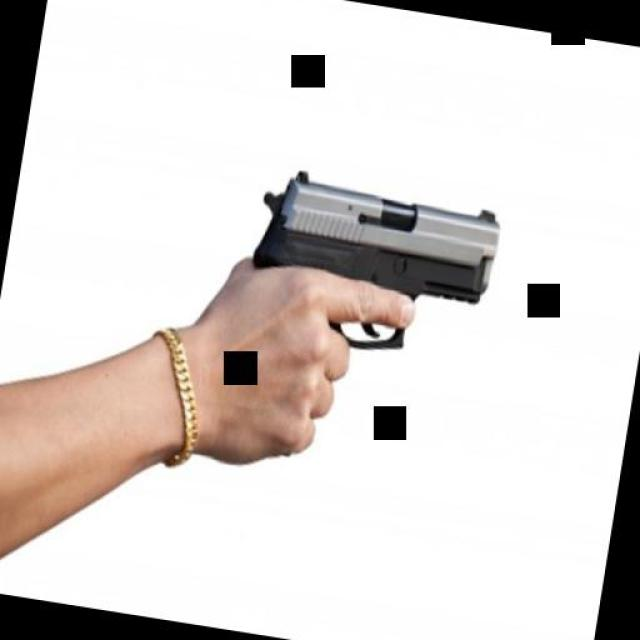gun: (214, 153, 504, 508)
